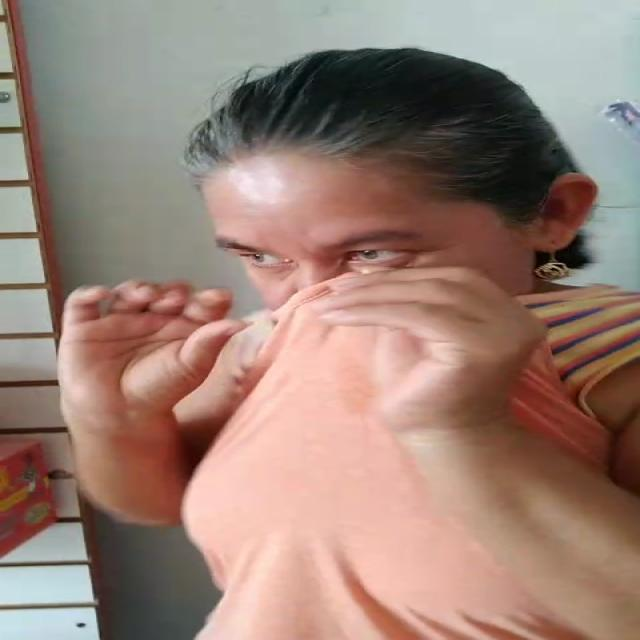8_ropa_rostro: (253, 282, 540, 411)
